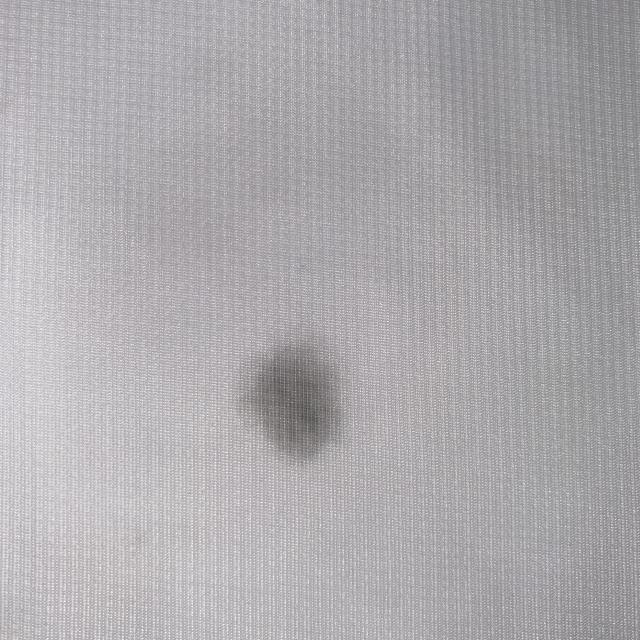Stain: (246, 346, 340, 460)
